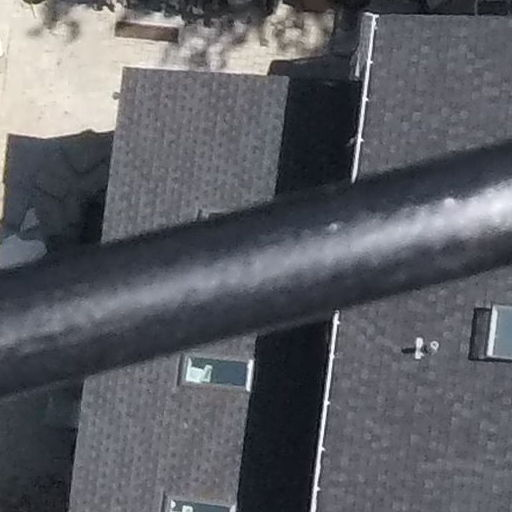flower bed: (104, 11, 191, 53)
